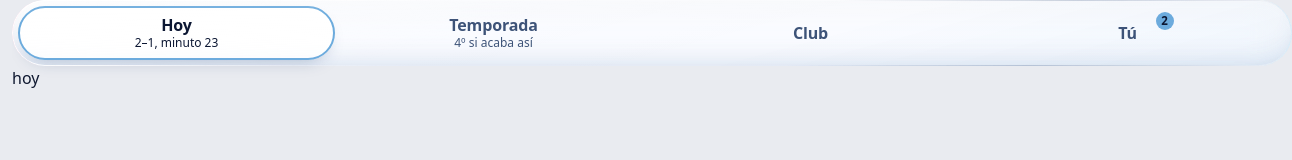
Shelf › arrow keys choose and move the focus; a click chooses
Press ArrowRight in the tab "Hoy 2–1, minuto 23", box [18,6,335,60]
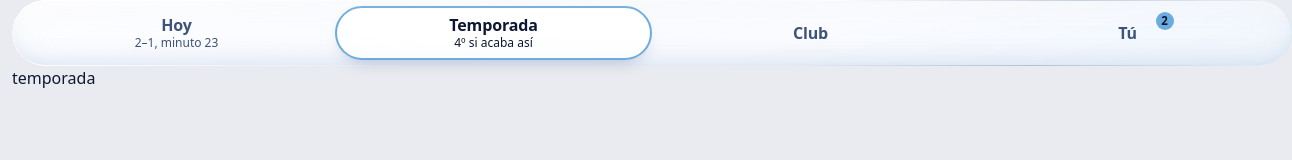
Now the tab "Temporada 4º si acaba así" is selected
Press End in the tab "Temporada 4º si acaba así", box [335,6,652,60]
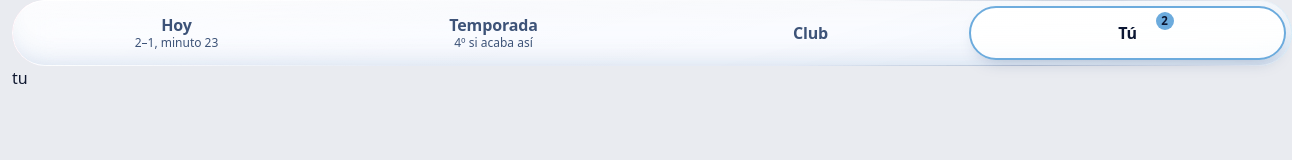
Click the tab "Club" at (810, 33), box [652,6,969,60]
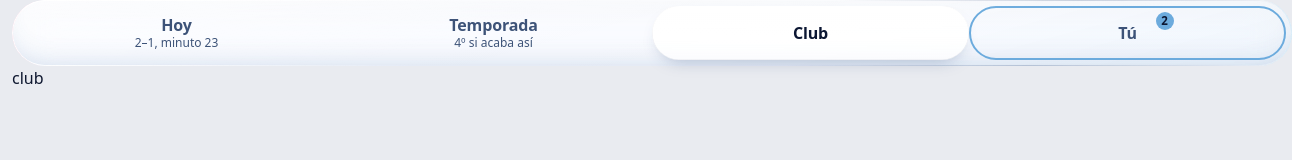
Now the panel reads "club", box [12,67,44,89]
